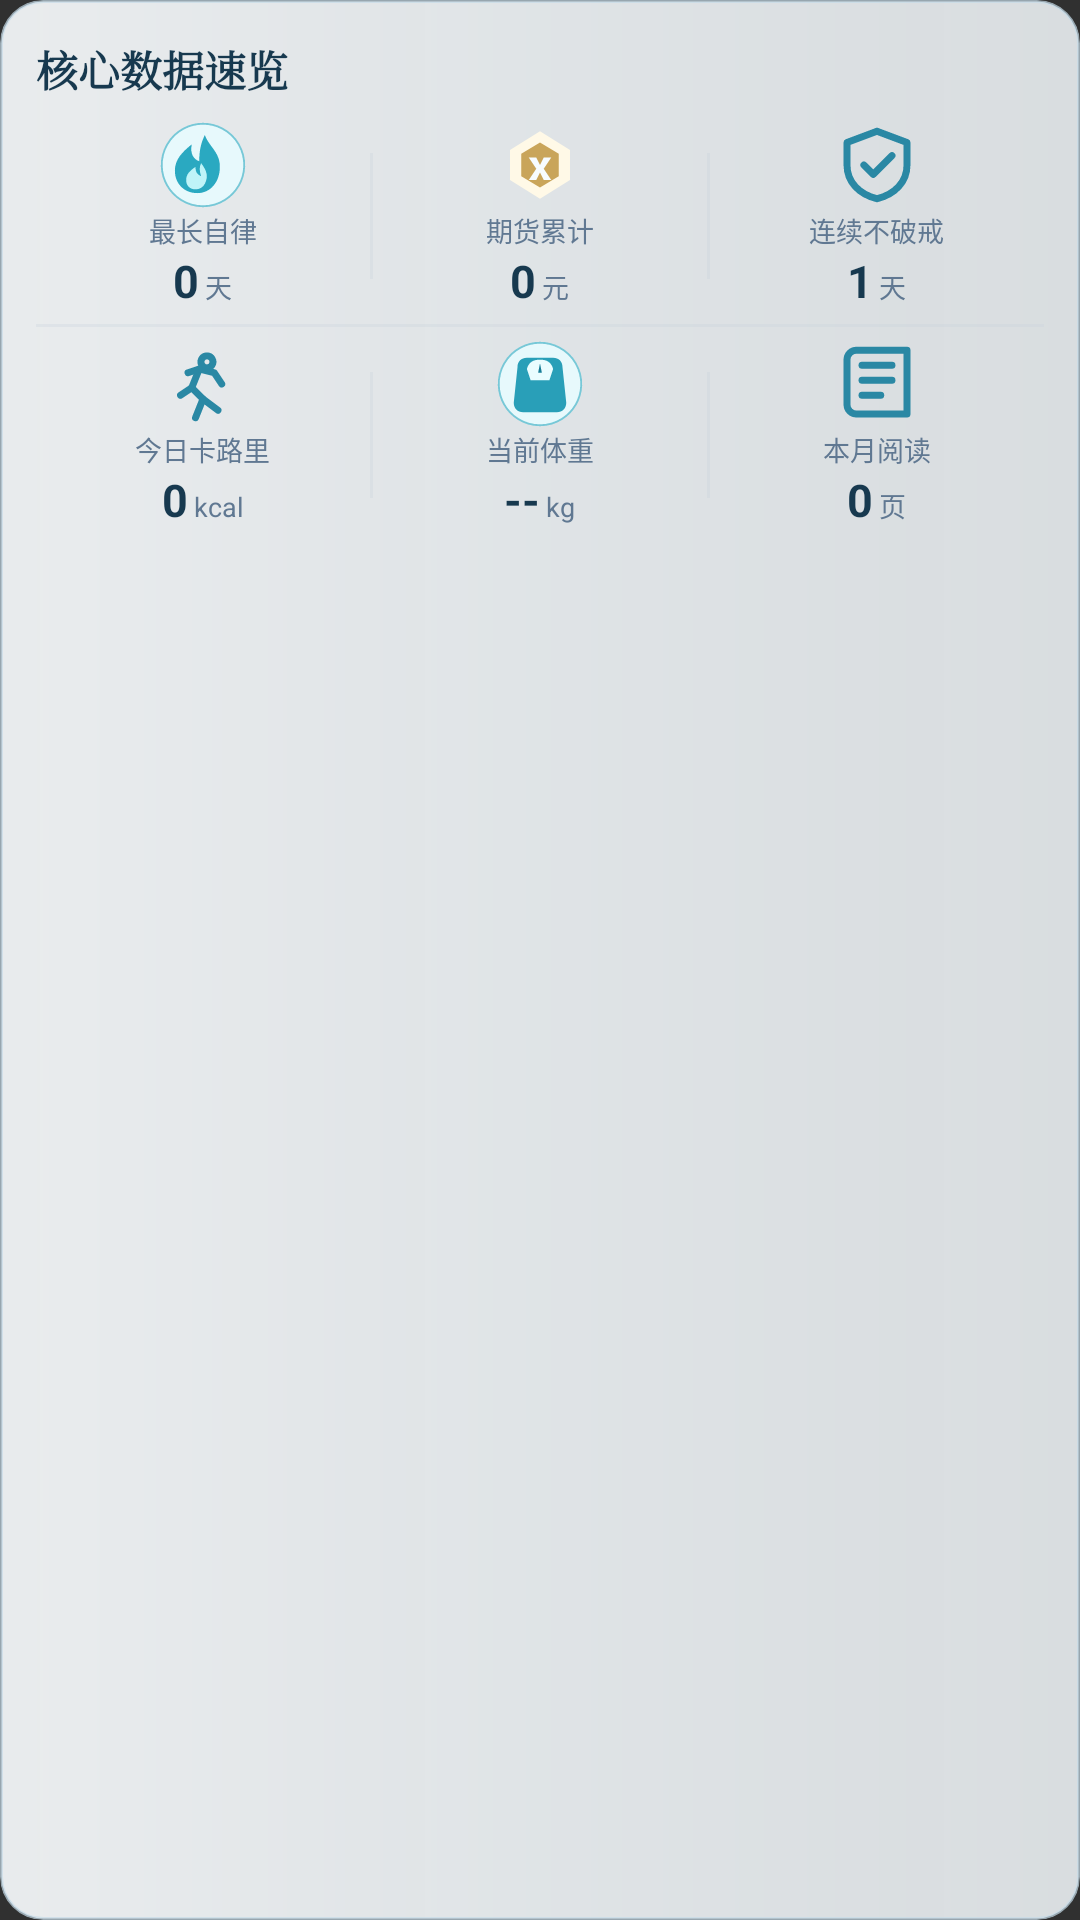

Icon click points for this 1080w x 1920h phone screenshot, format point (x, y):
exp exercise: point (201, 387)
